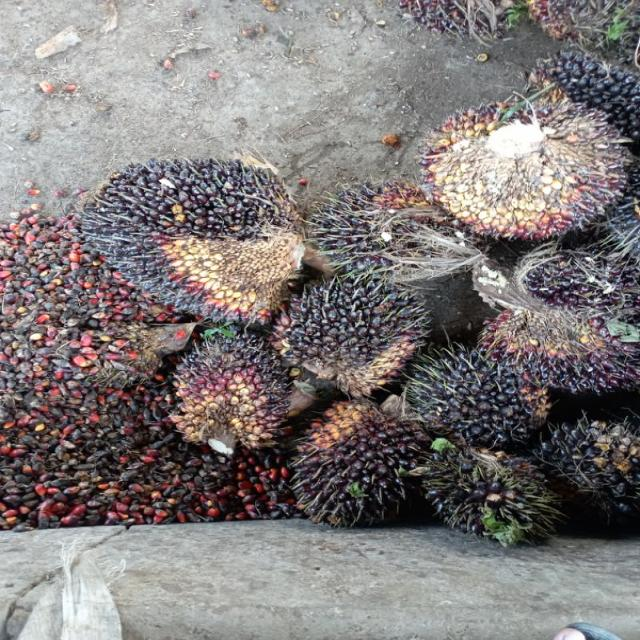fraksi 00: (62, 120, 335, 339), (263, 252, 450, 418), (275, 400, 467, 552)
fraksi 1: (390, 62, 640, 278)
